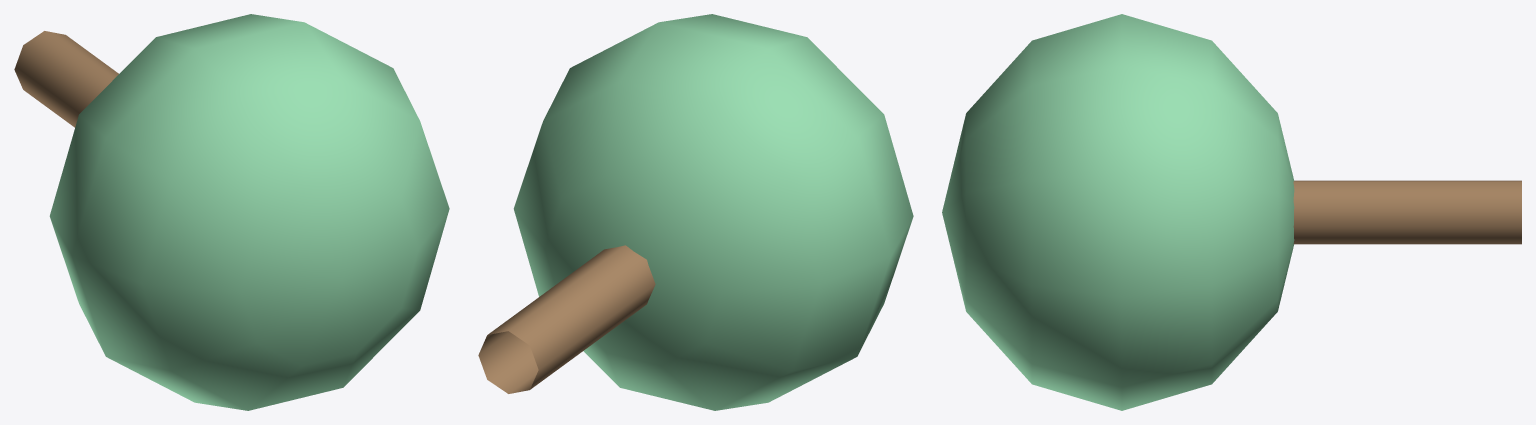
Rendered from tree-round.glb.
3 renders of one model, left to right at view 1: azimuth 30°, elevation 25°; view 2: azimuth 150°, elevation 25°; view 3: azimuth 270°, elevation 25°, orthographic. The views are drawn at different scales.
Bounding box in the file's own units: 3.3 × 3.14 × 4.78.
